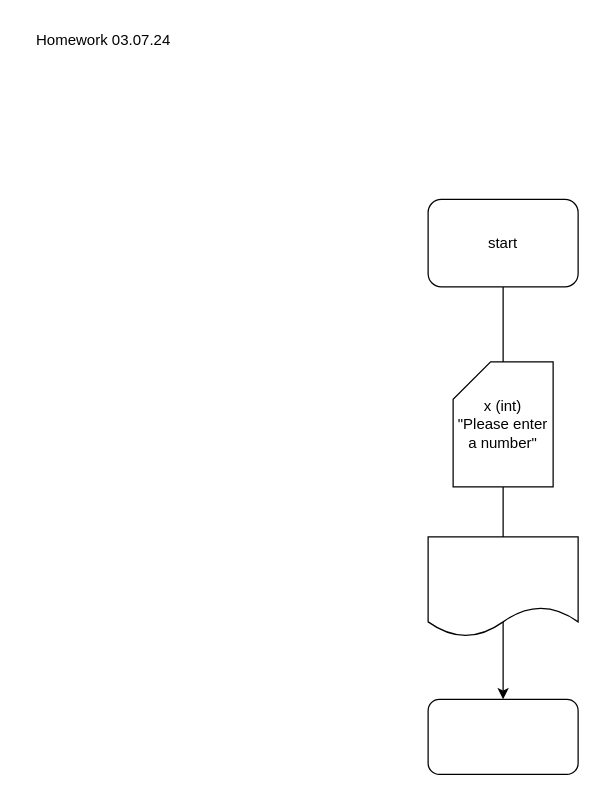
The diagram is 600 pixels wide and 796 high, and some of its shapes have lost their labels. The shapes that lost their labels are listed below. From the top down, each one's centre as x and y in pixels, then its label:
the point at 502,586: print (x, x, x)
the point at 502,736: end
